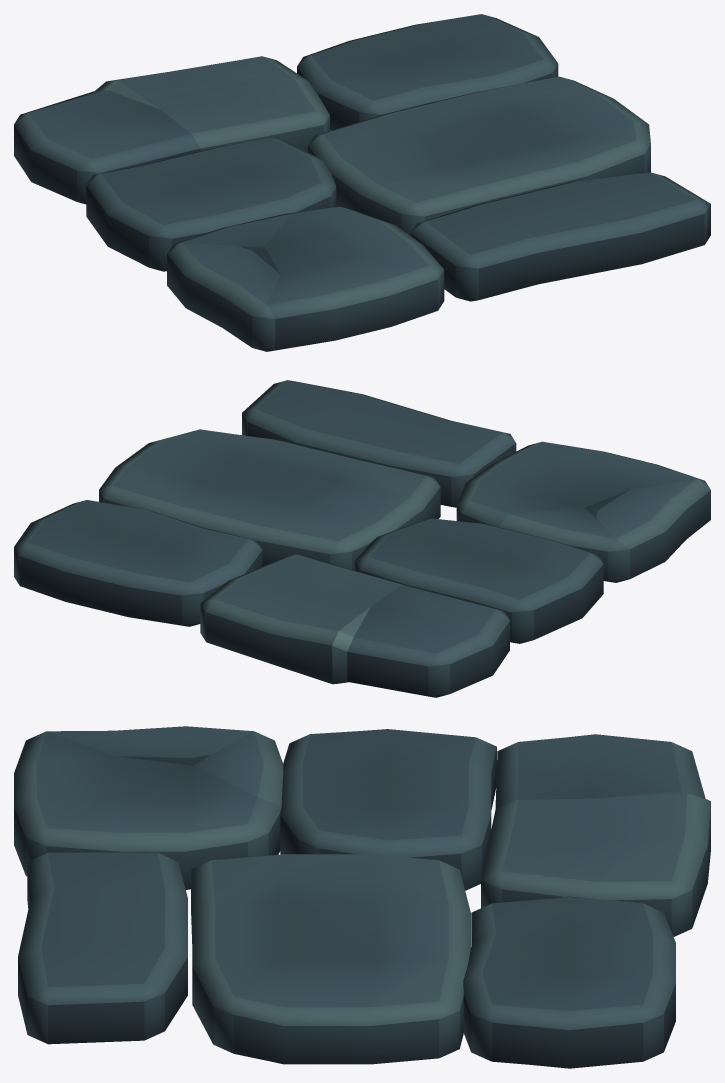
The model's file is stone_path_2_LOD_setup.fbx.
The picture shows the model from 3 angles, top to bottom: view 1: azimuth 30°, elevation 25°; view 2: azimuth 150°, elevation 25°; view 3: azimuth 270°, elevation 25°; orthographic projection. The views are drawn at different scales.
Visible parts, largest first — view 1: stone_path_2_LOD0; view 2: stone_path_2_LOD0; view 3: stone_path_2_LOD0.
Boxes of the visible parts, box(x1,y1,x2,y2) form: stone_path_2_LOD0: box(14, 14, 710, 351); stone_path_2_LOD0: box(14, 380, 710, 697); stone_path_2_LOD0: box(14, 726, 710, 1068).
Size of what is drawn, in the model's own units: 209 by 21.78 by 203.
